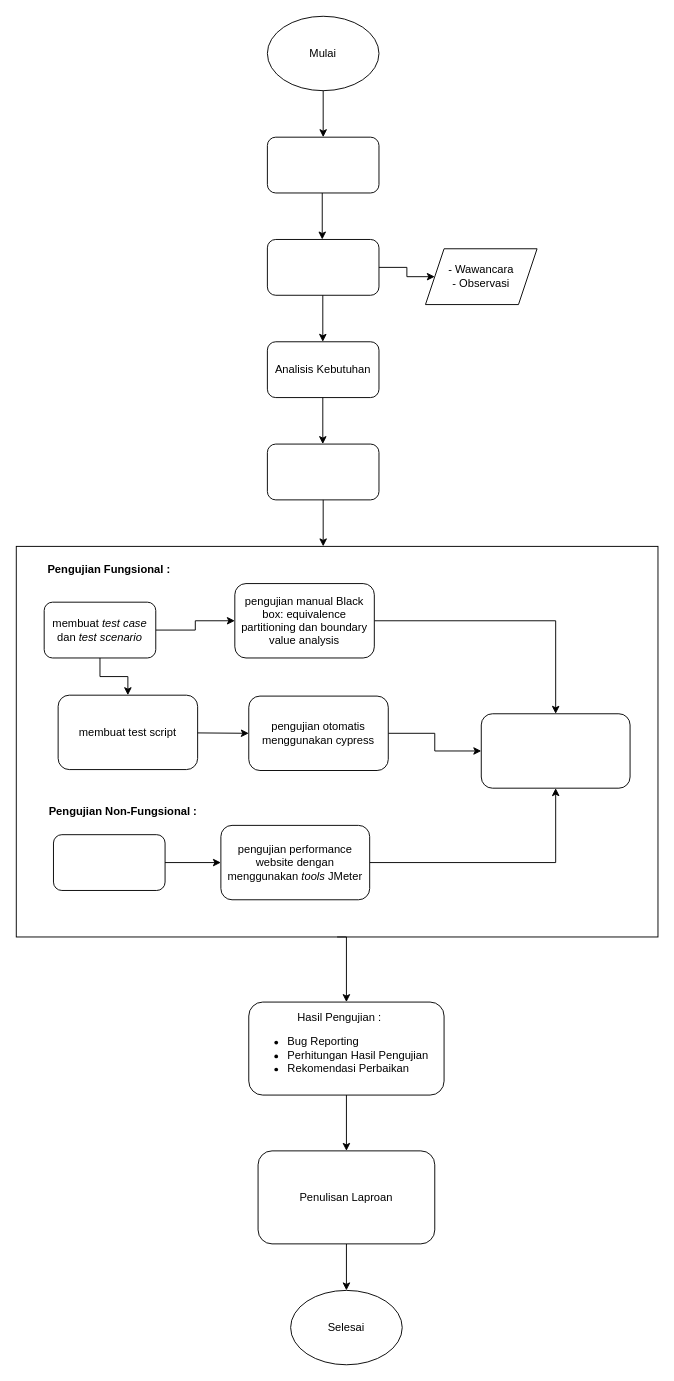
Image size: 674x1381. Some labels were removed from this diagram. The shapes that lost their labels are listed below. From the top down, each one's centre as x and y in pixels, then its label:
(x=322, y=164): Studi Literatur
(x=322, y=267): Pengumpulan Data
(x=322, y=471): Skenario Pengujian
(x=555, y=750): Eksekusi Pengujian
(x=109, y=862): pembuatan test plan
